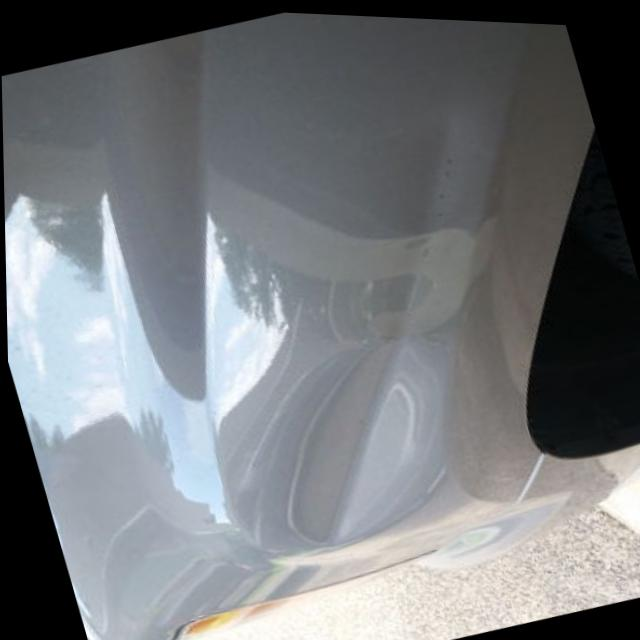Dent: (261, 303, 499, 589)
